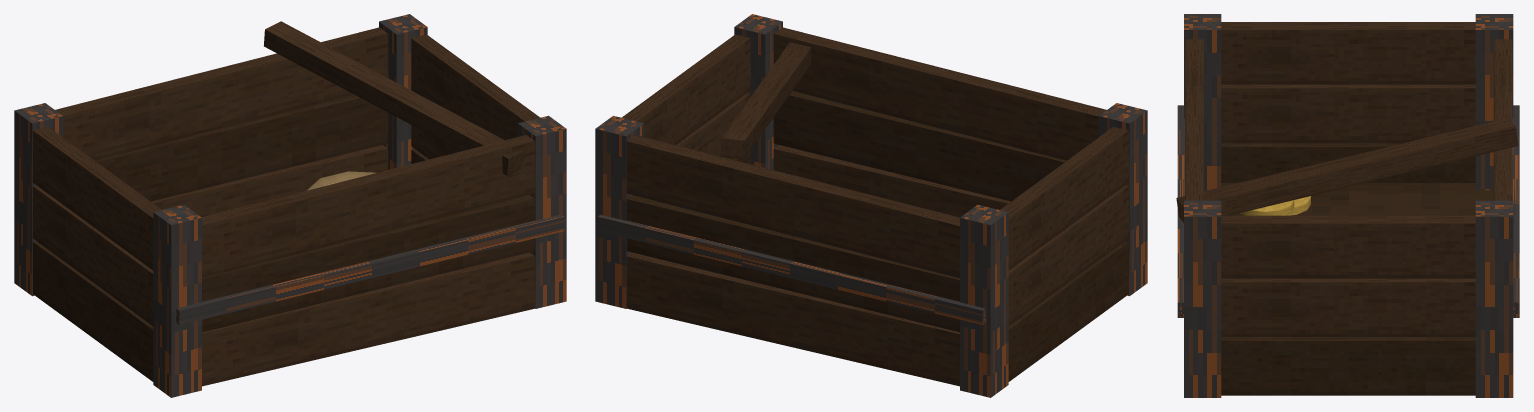
Rendered from caja-amuletos.glb.
The picture shows the model from 3 angles, left to right: view 1: azimuth 30°, elevation 25°; view 2: azimuth 150°, elevation 25°; view 3: azimuth 270°, elevation 25°; orthographic projection. The views are drawn at different scales.
Visible parts, largest first — view 1: caja-amuletos; view 2: caja-amuletos; view 3: caja-amuletos.
Part boxes in pixels (x1,y1,x2,y2): caja-amuletos: (14,14,566,397); caja-amuletos: (595,14,1147,397); caja-amuletos: (1176,14,1519,397).
Size of the model in its own units: 1.15 by 0.5442 by 0.8231.
Materials: 5 (5 with a texture image).
